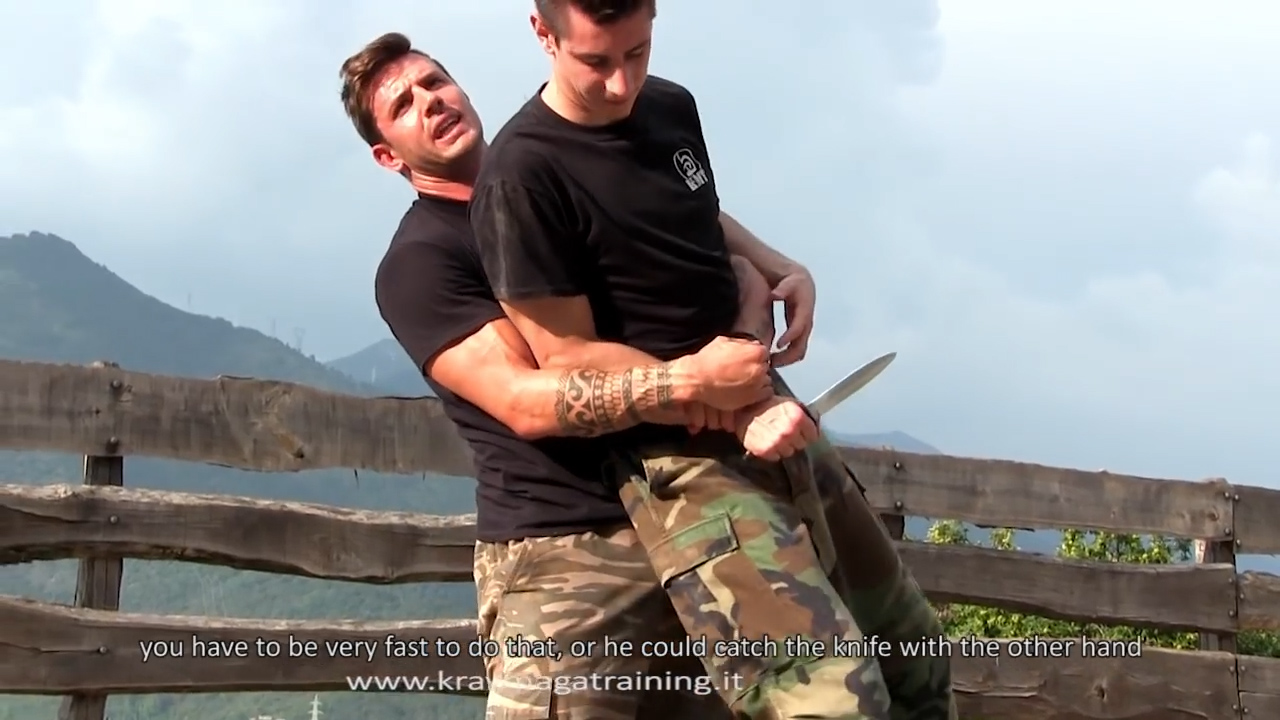knife: (739, 343, 912, 461)
